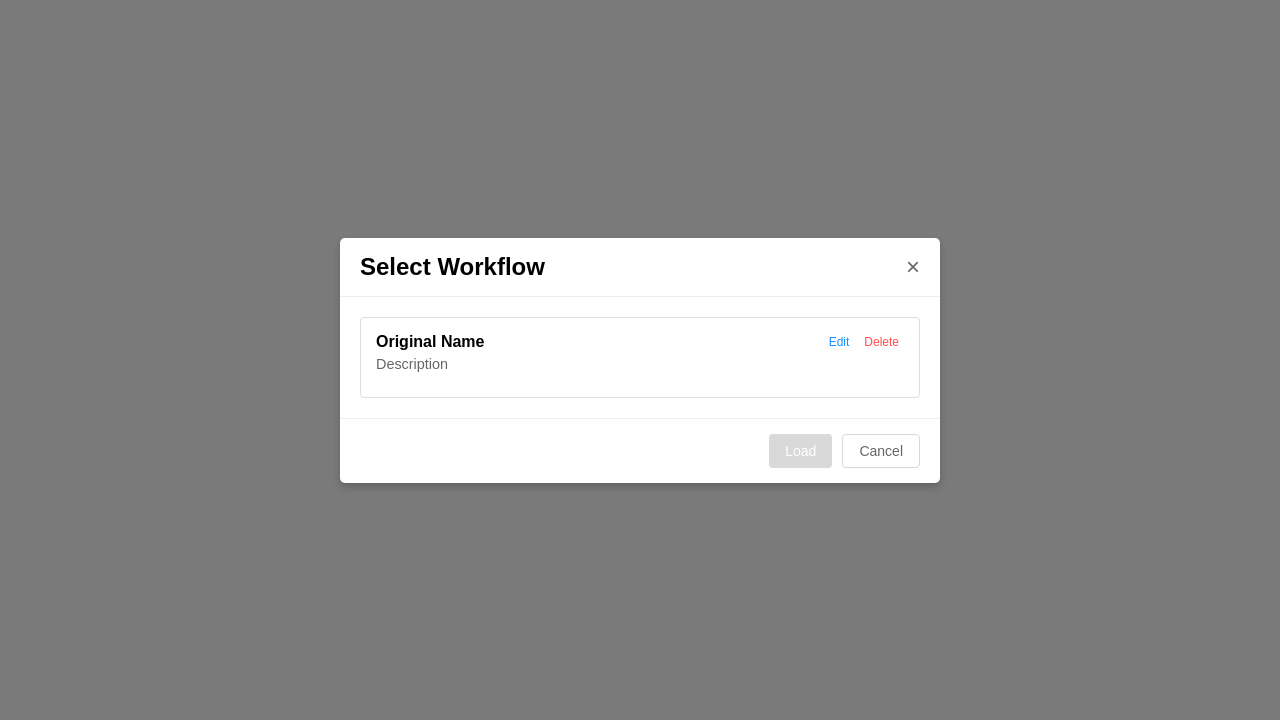
Test: WorkflowModal.vue › cancels editing when cancel button is clicked
This screenshot has width=1280, height=720.
Note: Click edit button
Click the button with class "edit-button".
click(839, 342)  # box [824,332,854,350]
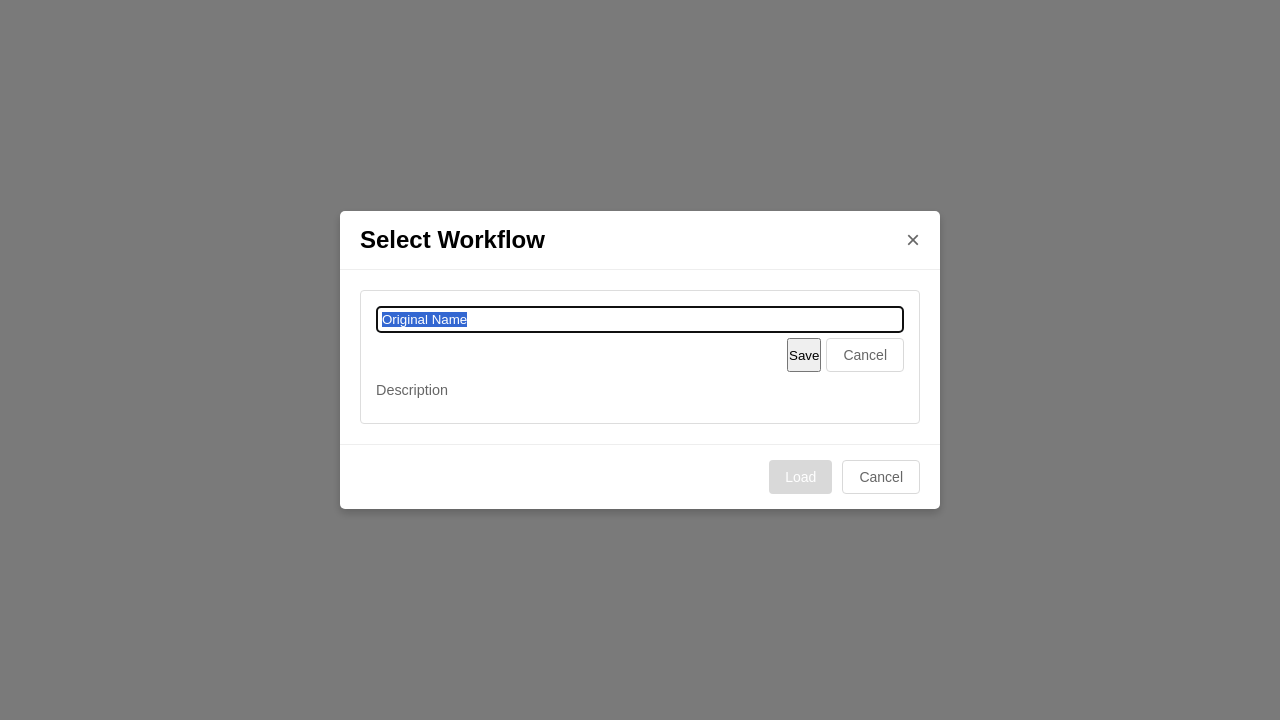
Note: Set new name
Replace the text in the field with "Updated Name" at (640, 320), box [376,306,904,333]
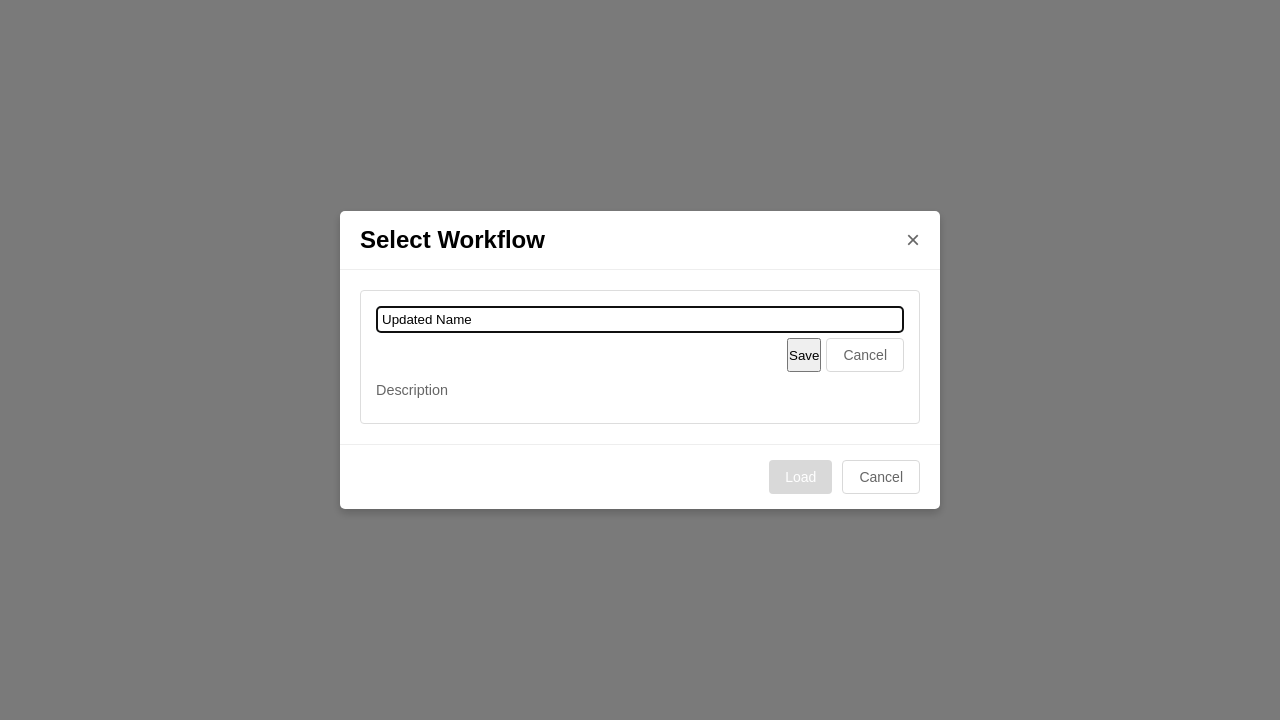
Note: Click cancel button
Click the 1st button with class "cancel-button".
click(865, 355)  # box [826,338,904,372]
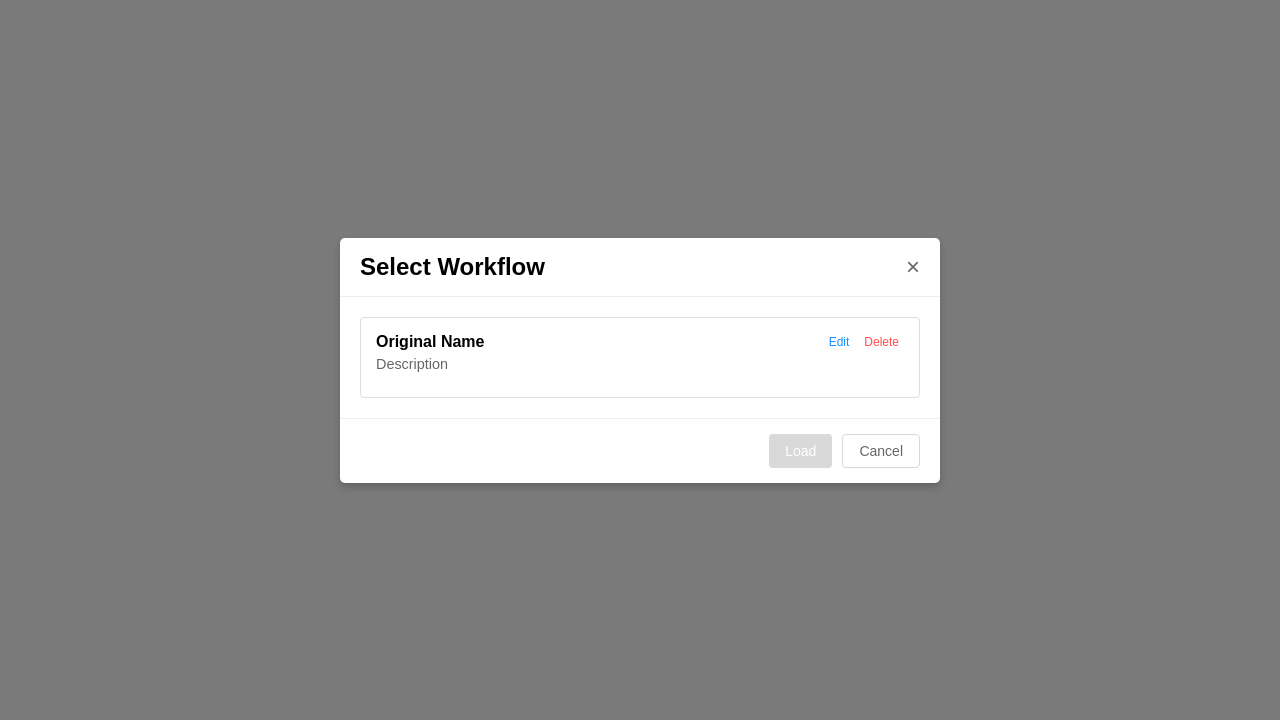
expect the text "Original Name" is shown: met, box [376,332,484,350]
